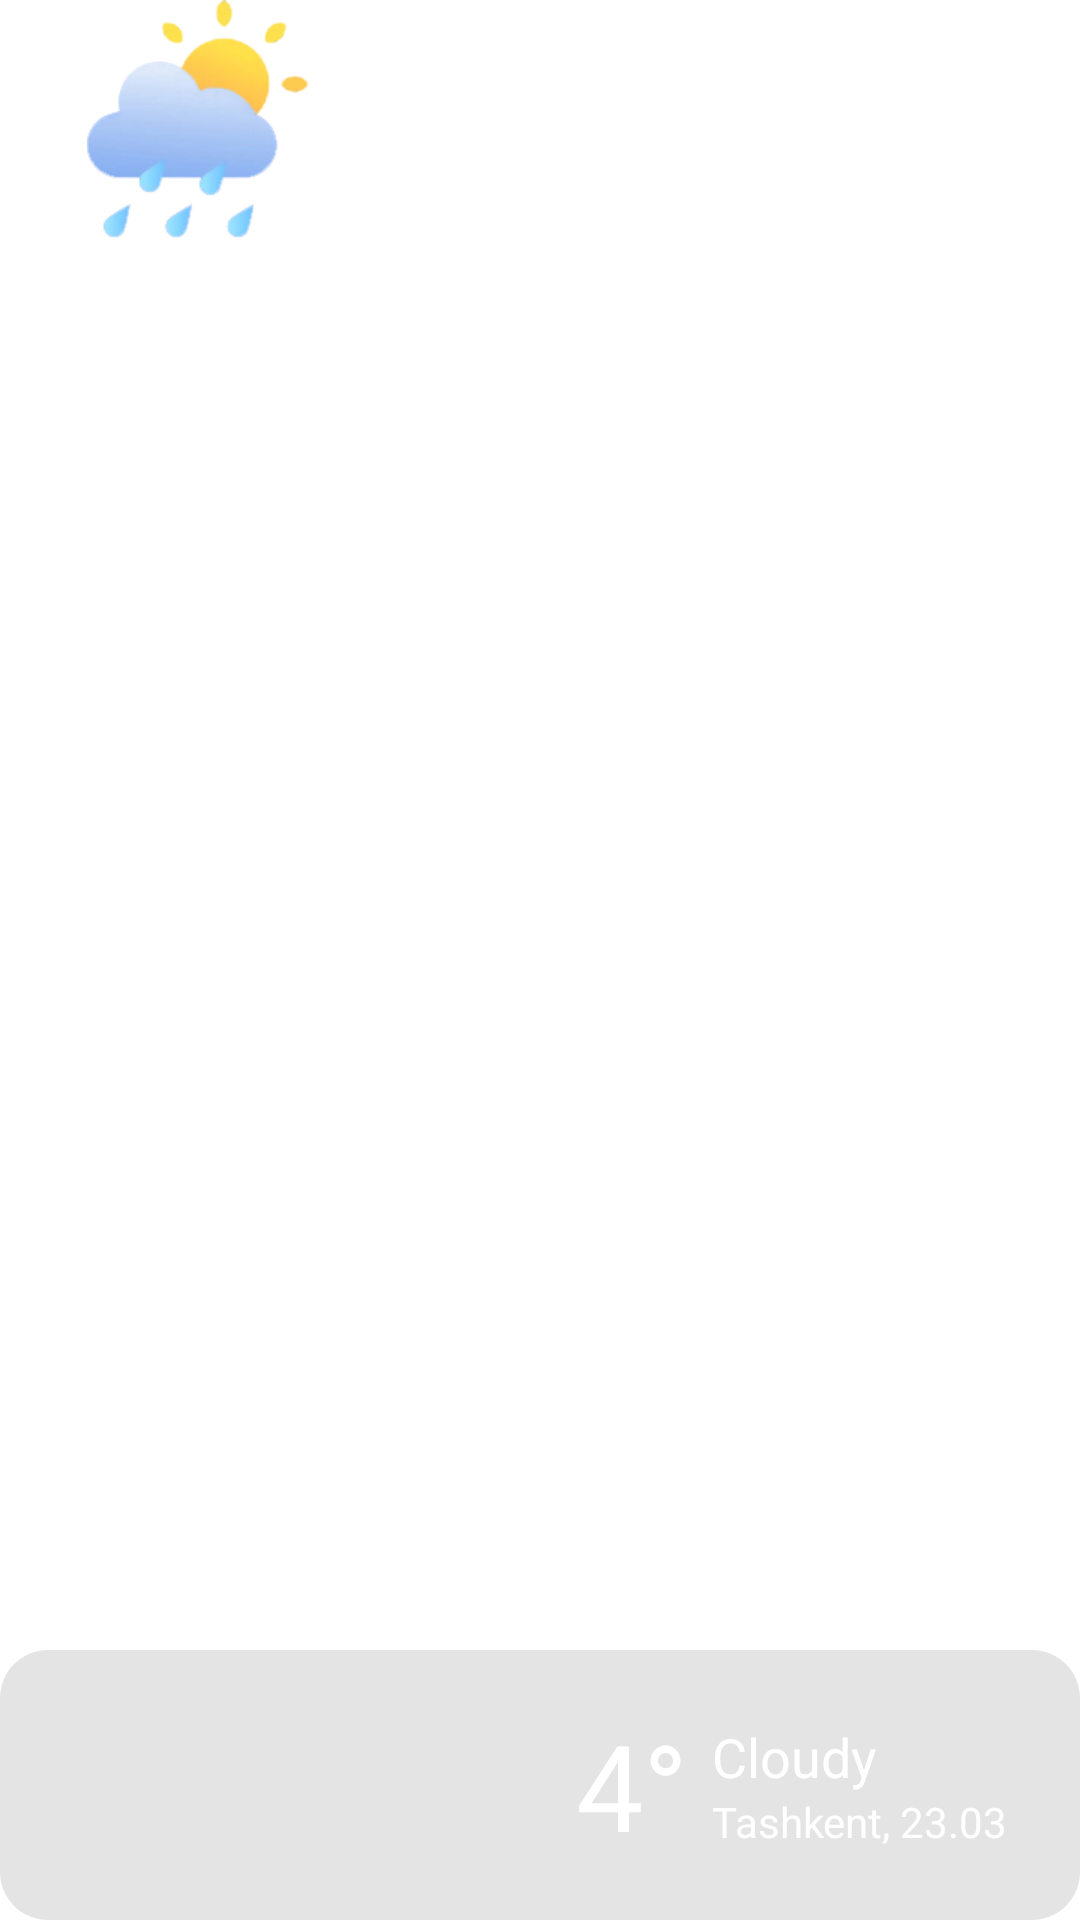

Icons on this 1080 x 1920 Android screen, each with its box as (x1, y1, x2, y2):
rain: (87, 0, 308, 237)
